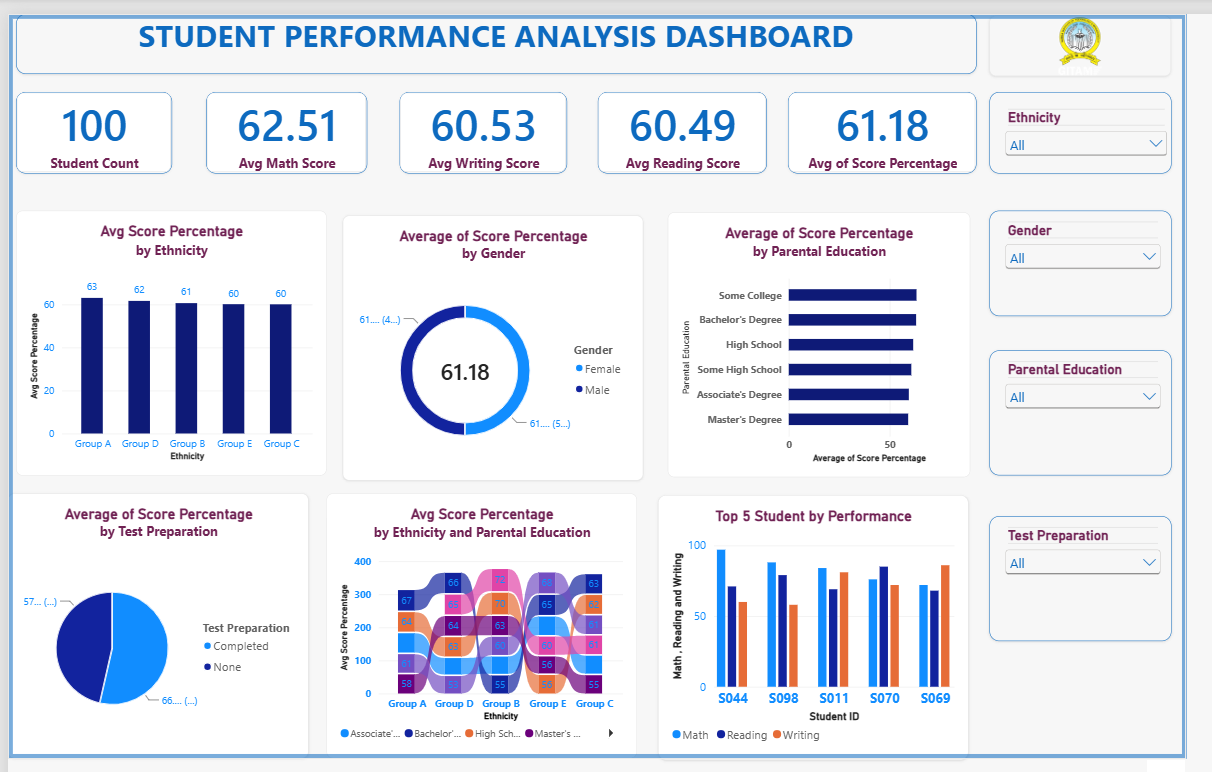

This screenshot's page, from the dashboard's own definition file:
{"tool":"powerbi","page":{"name":"All Subject Dashboard","canvas":[1920,1080],"ordinal":0},"visuals":[{"type":"textbox","box":[10,0,1182,74],"z":0},{"type":"image","box":[1208,2,223.4,74.5],"z":1000},{"type":"cardVisual","fields":{"Data":["Count(marks.Student ID)"]},"box":[10,96,192,100],"z":2000},{"type":"cardVisual","fields":{"Data":["Avg(marks.Math Score)"]},"box":[244,96,198,100],"z":3000},{"type":"cardVisual","fields":{"Data":["Avg(marks.Writing Score)"]},"box":[482,96,206,100],"z":4000},{"type":"cardVisual","fields":{"Data":["Avg(marks.Reading Score)"]},"box":[726,96,208,100],"z":5000},{"type":"cardVisual","fields":{"Data":["Avg(marks.Score Percentage)"]},"box":[960,96,232,100],"z":6000},{"type":"slicer","fields":{"Values":["marks.Ethnicity"]},"box":[1208,96,224,100],"z":7000},{"type":"slicer","fields":{"Values":["marks.Gender"]},"box":[1208,242,224,130],"z":8000},{"type":"slicer","fields":{"Values":["marks.Parental Education"]},"box":[1208,414,224,154],"z":9000},{"type":"columnChart","fields":{"Y":["Avg(marks.Score Percentage)"],"Category":["marks.Ethnicity"]},"box":[10,242,382,326],"z":10000},{"type":"donutChart","fields":{"Category":["marks.Gender"],"Y":["Avg(marks.Score Percentage)"]},"box":[412,248,370,326],"z":11000},{"type":"clusteredBarChart","fields":{"Y":["Avg(marks.Score Percentage)"],"Category":["marks.Parental Education"]},"box":[811.5,244,372,326],"z":12000},{"type":"pieChart","fields":{"Y":["Avg(marks.Score Percentage)"],"Category":["marks.Test Preparation"]},"box":[0,590,370,326],"z":13000},{"type":"ribbonChart","fields":{"Y":["Avg(marks.Score Percentage)"],"Category":["marks.Ethnicity"],"Series":["marks.Parental Education"]},"box":[392,590,382,326],"z":14000},{"type":"slicer","fields":{"Values":["marks.Test Preparation"]},"box":[1208,618,224,154],"z":15000},{"type":"clusteredColumnChart","title":"Top 5 Student by Performance","fields":{"Y":["Avg(marks.Math Score)","Avg(marks.Reading Score)","Avg(marks.Writing Score)"],"Category":["marks.Student ID"]},"box":[800,592,382,326],"z":16000},{"type":"shape","box":[0,2.6,1450.9,916.7],"z":16001}]}

Visuals, with their boxes in screenshot pixels (x1, y1, x2, y2):
textbox: pyautogui.locateOnScreen(12, 0, 722, 13)
image: pyautogui.locateOnScreen(732, 0, 866, 14)
cardVisual - Count(marks.Student ID): pyautogui.locateOnScreen(12, 26, 128, 86)
cardVisual - Avg(marks.Math Score): pyautogui.locateOnScreen(153, 26, 272, 86)
cardVisual - Avg(marks.Writing Score): pyautogui.locateOnScreen(296, 26, 419, 86)
cardVisual - Avg(marks.Reading Score): pyautogui.locateOnScreen(442, 26, 567, 86)
cardVisual - Avg(marks.Score Percentage): pyautogui.locateOnScreen(583, 26, 722, 86)
slicer - marks.Ethnicity: pyautogui.locateOnScreen(732, 26, 866, 86)
slicer - marks.Gender: pyautogui.locateOnScreen(732, 114, 866, 192)
slicer - marks.Parental Education: pyautogui.locateOnScreen(732, 217, 866, 309)
columnChart - Avg(marks.Score Percentage) x marks.Ethnicity: pyautogui.locateOnScreen(12, 114, 242, 309)
donutChart - marks.Gender x Avg(marks.Score Percentage): pyautogui.locateOnScreen(254, 117, 476, 313)
clusteredBarChart - Avg(marks.Score Percentage) x marks.Parental Education: pyautogui.locateOnScreen(494, 115, 717, 311)
pieChart - Avg(marks.Score Percentage) x marks.Test Preparation: pyautogui.locateOnScreen(6, 323, 228, 518)
ribbonChart - Avg(marks.Score Percentage) x marks.Ethnicity: pyautogui.locateOnScreen(242, 323, 471, 518)
slicer - marks.Test Preparation: pyautogui.locateOnScreen(732, 340, 866, 432)
"Top 5 Student by Performance" clusteredColumnChart: pyautogui.locateOnScreen(487, 324, 716, 520)
shape: pyautogui.locateOnScreen(6, 0, 878, 520)
